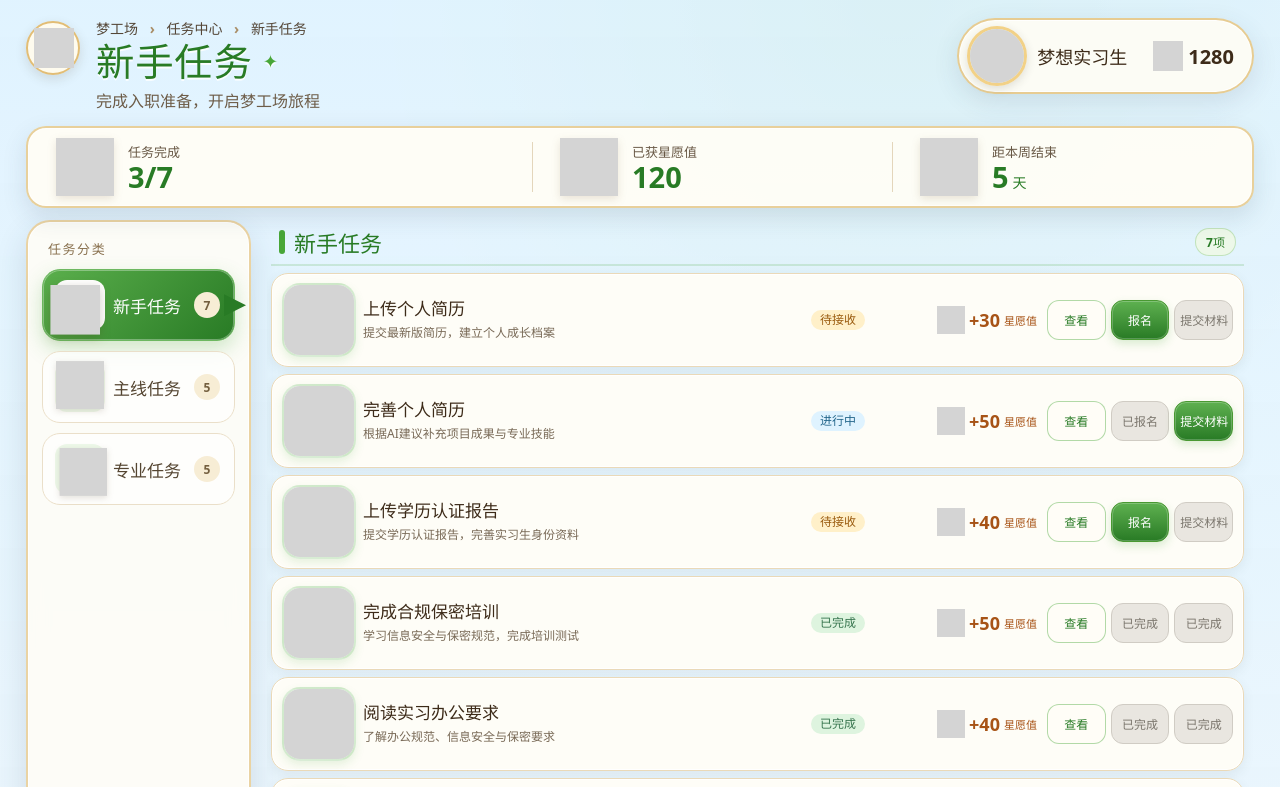
Test: TaskCenterPage › allows a pending task to be enrolled and updates its status
This screenshot has width=1280, height=787.
Click the button "报名" in the row of "30".
click(1140, 320)  # box [1111, 300, 1169, 340]
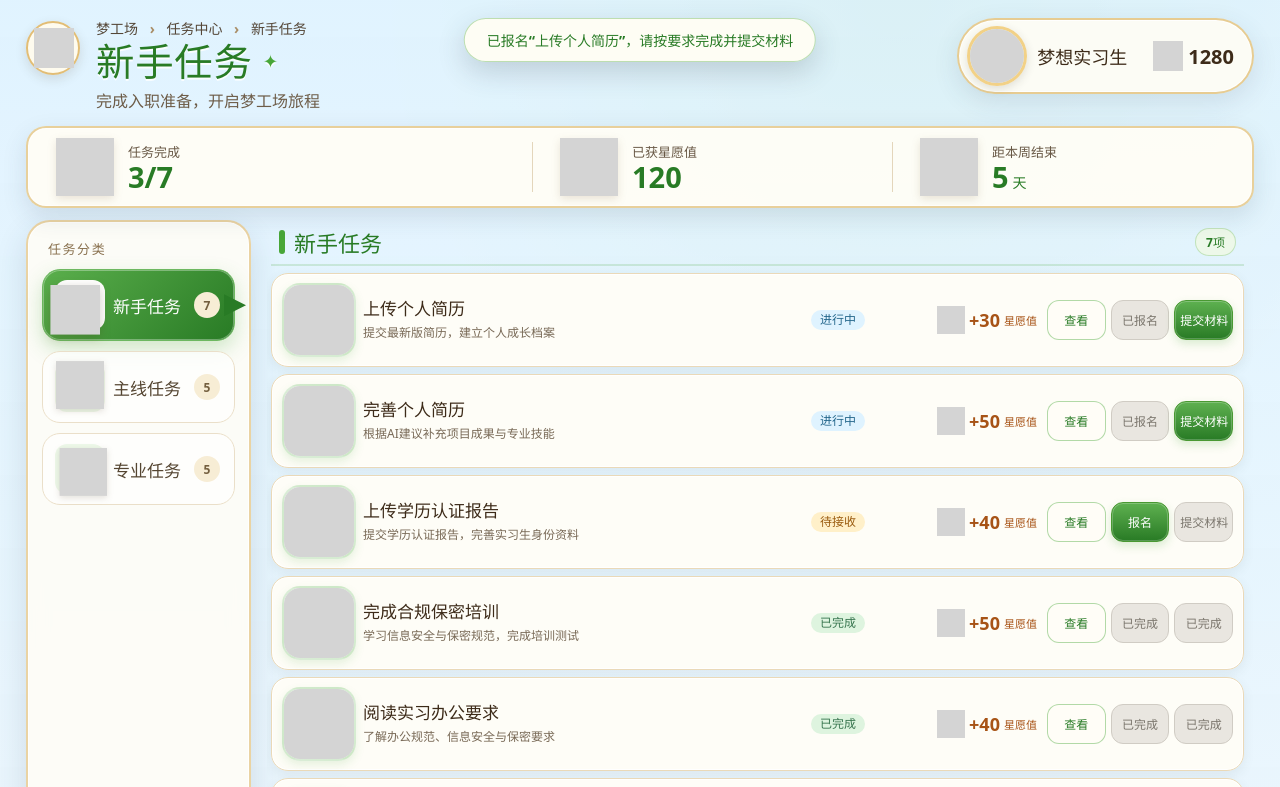
Expected: the text "进行中" next to "30" is shown, [820, 311, 856, 328]
Expected: the button "已报名" in the row of "30" is shown, [1111, 300, 1169, 340]
Expected: the message shows "已报名“上传个人简历”", [487, 31, 793, 50]
